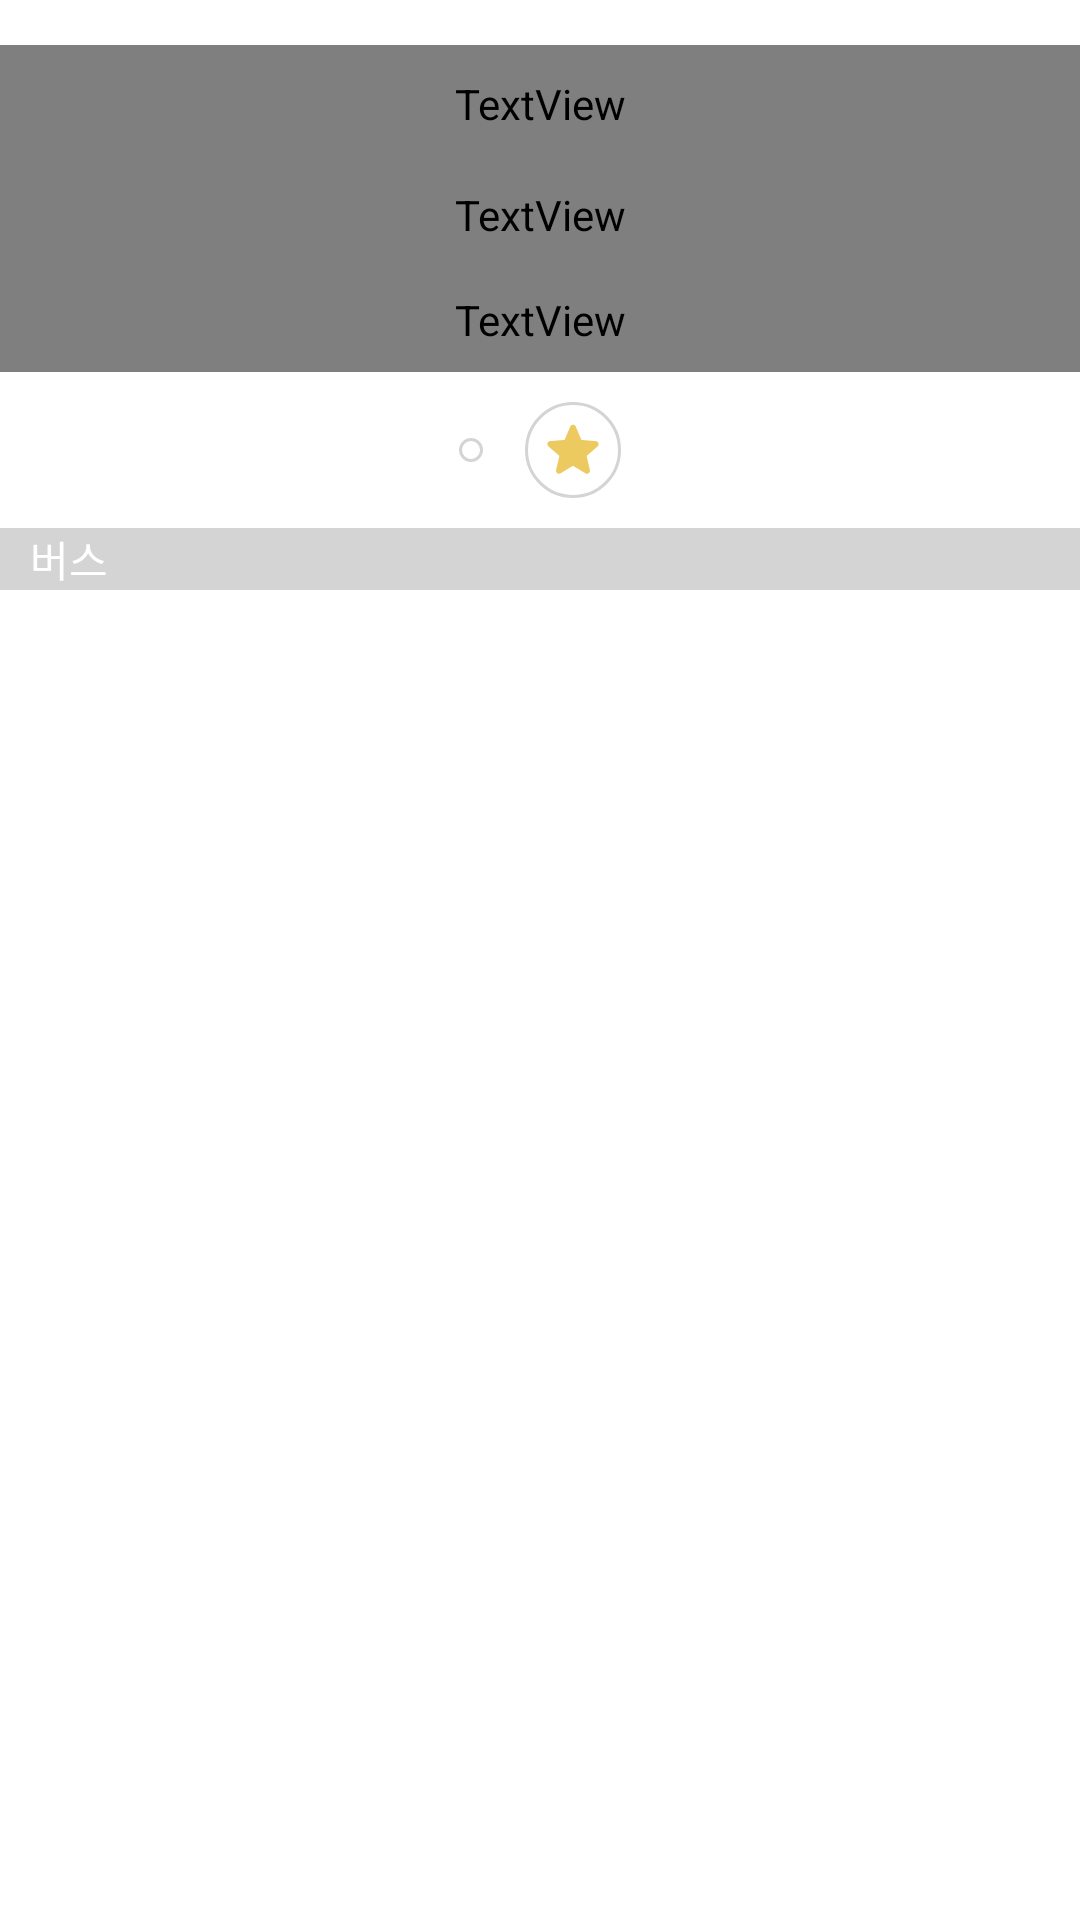

Named icons in this screenshot (1080*1920) and their centers, (x,y):
star: (573,450)
